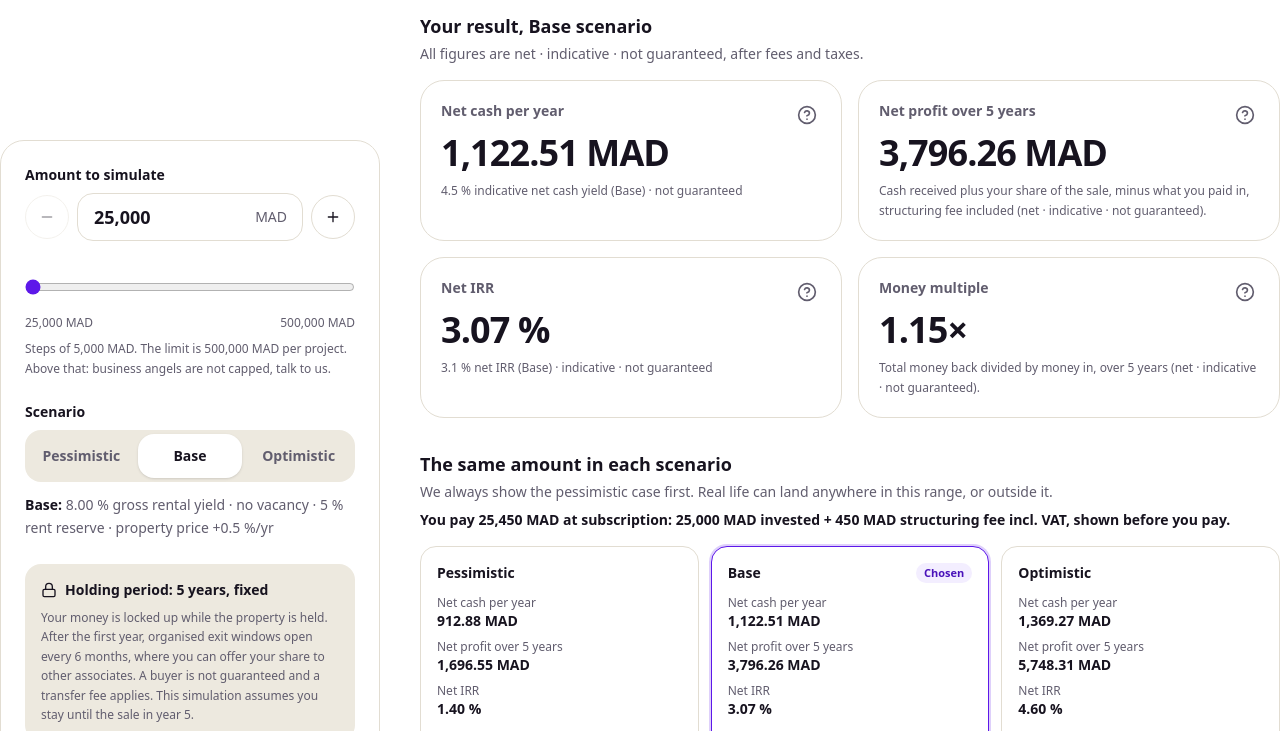
it: Simulator › exposes a slider and an input limited to 25,000 minimum in 5,000 steps
Replace the text in the field labelled "Amount to simulate" with "5000" at x=190, y=217, box [77,193,303,241]
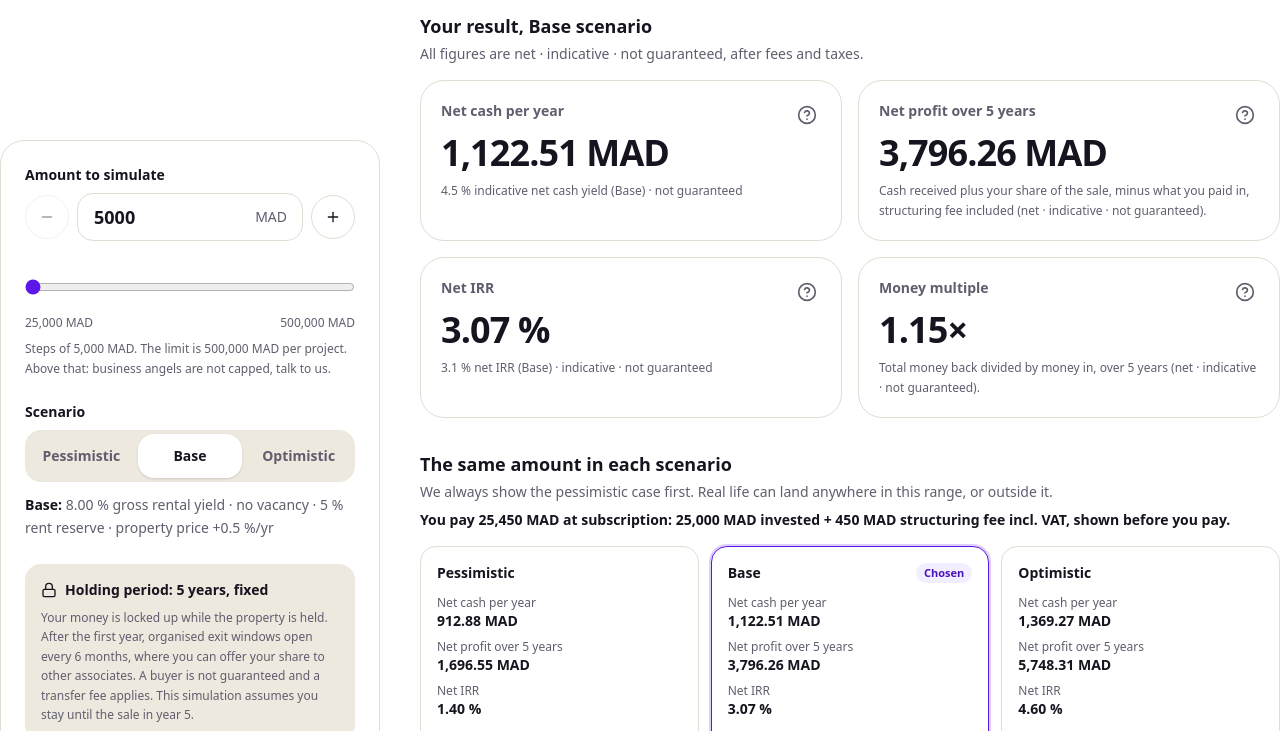
Leave the field labelled "Amount to simulate", box [77,193,303,241]
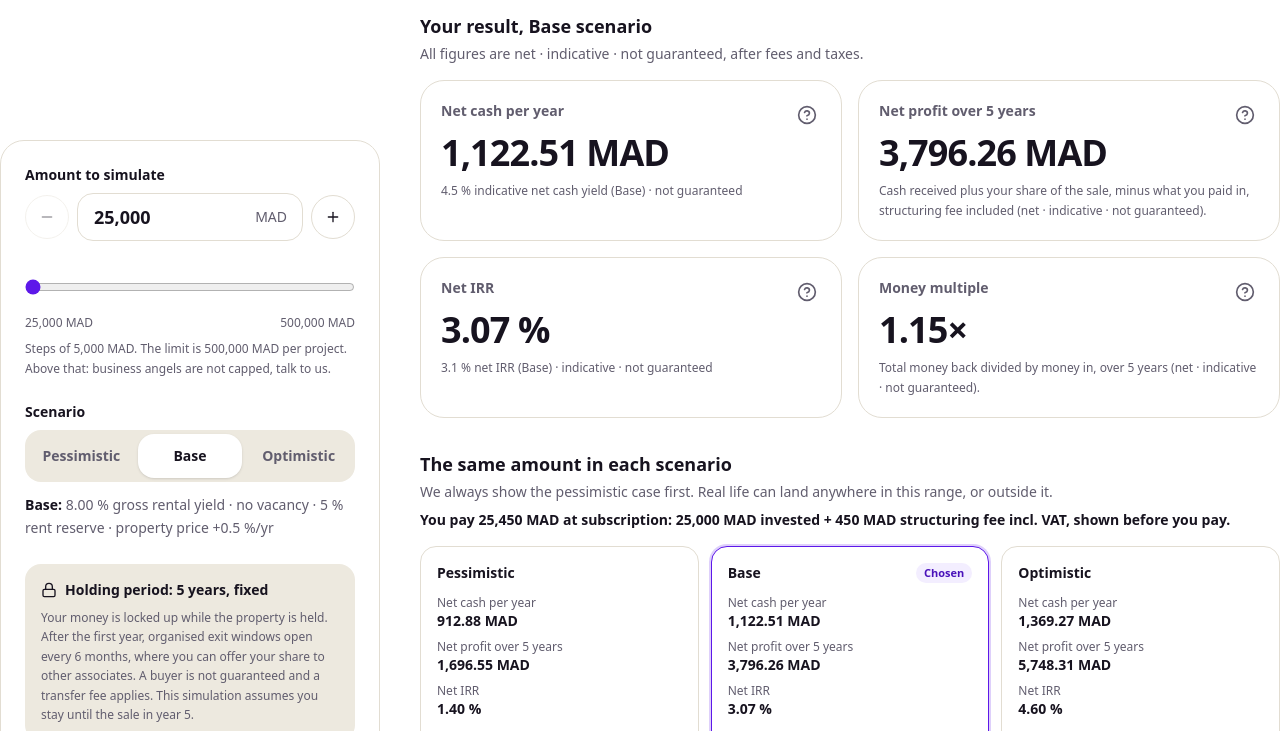
Expected: the field labelled "Amount to simulate" holds "25,000", [77,193,303,241]
Set the slider named "Amount slider" to "100000" at x=83, y=287, box [25,265,355,309]
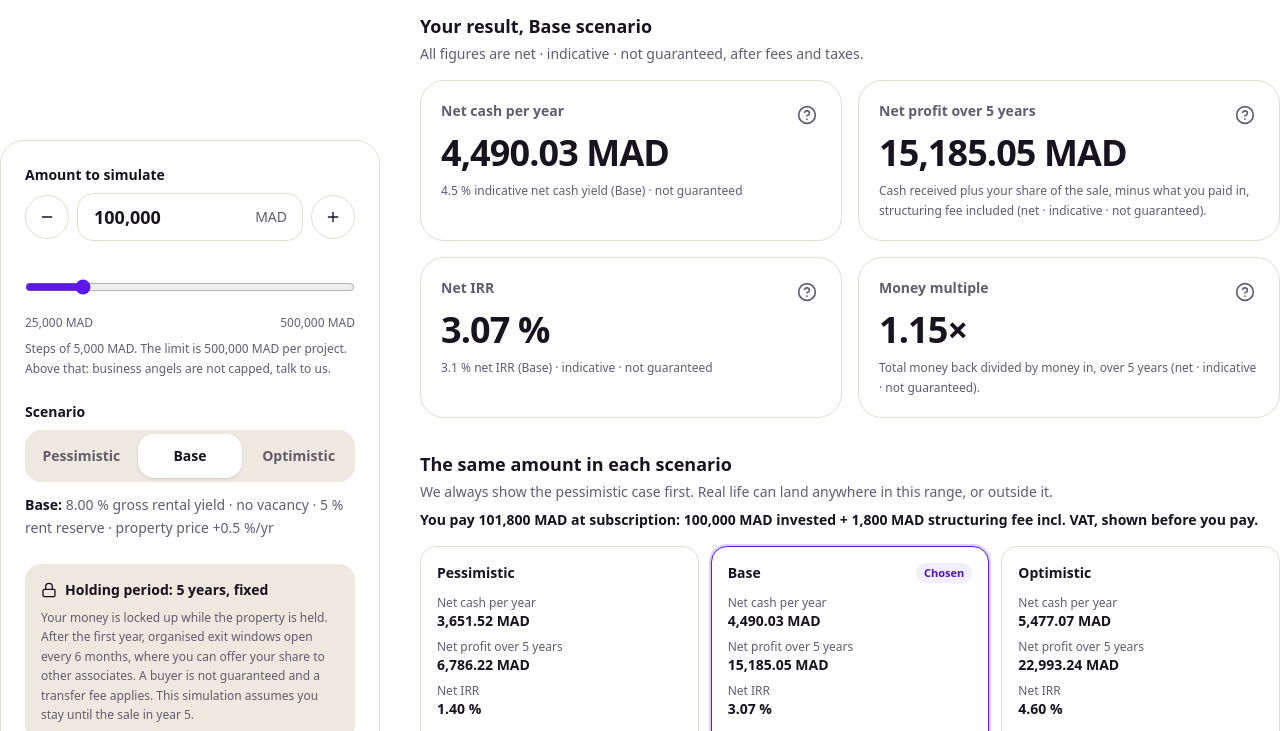
Expected: the field labelled "Amount to simulate" holds "100,000", [77,193,303,241]
